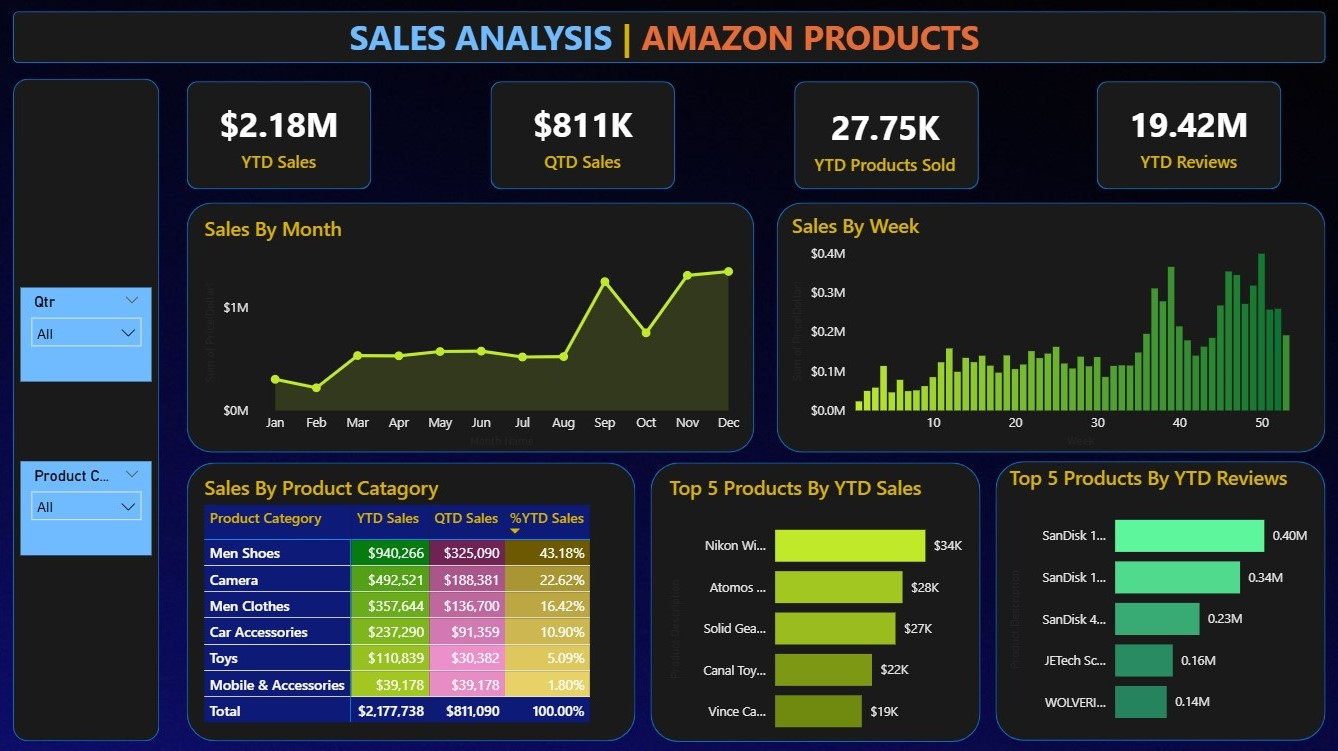

This screenshot's page, from the dashboard's own definition file:
{"tool":"powerbi","page":{"name":"Page 1","canvas":[1280,720],"ordinal":0},"visuals":[{"type":"shape","box":[13.7,11,1250.1,49.4],"z":0},{"type":"card","fields":{"Values":["Amazon_Data.YTD Sales"]},"box":[179.8,79.6,175.6,100.2],"z":0,"group":"g1"},{"type":"textbox","box":[329.3,8.2,618.9,56.3],"z":1000},{"type":"card","fields":{"Values":["Amazon_Data.QTD Sales"]},"box":[469.3,80.1,175.6,100.2],"z":1000,"group":"g1"},{"type":"shape","box":[14.3,75,139.3,631],"z":2000},{"type":"card","fields":{"Values":["Amazon_Data.YTD Products Sold"]},"box":[757.5,81.5,175.6,100.2],"z":2000,"group":"g1"},{"type":"shape","box":[179.8,76.8,175.6,102.9],"z":3000},{"type":"card","fields":{"Values":["Amazon_Data.YTD Reviews"]},"box":[1047,80.1,175.6,100.2],"z":3000,"group":"g1"},{"type":"shape","box":[468.8,76.8,175.6,102.9],"z":4000},{"type":"shape","box":[757.9,76.8,175.6,102.9],"z":5000},{"type":"shape","box":[1047,76.8,175.6,102.9],"z":6000},{"type":"group","id":"g1","title":"Group 1","box":[179.8,79.6,1042.9,101.5],"z":7000},{"type":"shape","box":[179.8,192.9,540.5,238.1],"z":8000},{"type":"areaChart","title":"Sales By Month","fields":{"Category":["Date Table.Month Name"],"Y":["Sum(Amazon_Data.Price(Dollar))"]},"box":[191.7,204.8,525,226.2],"z":9000},{"type":"shape","box":[741.7,192.9,522.6,238.1],"z":10000},{"type":"columnChart","title":"Sales By Week","fields":{"Category":["Date Table.Weel"],"Y":["Sum(Amazon_Data.Price(Dollar))"]},"box":[751.2,202.4,503.6,228.6],"z":11000},{"type":"shape","box":[179.8,440.5,427.4,265.5],"z":12000},{"type":"pivotTable","title":"Sales By Product Catagory","fields":{"Rows":["Amazon_Data.Product Category"],"Values":["Amazon_Data.YTD Sales1","Amazon_Data.QTD Sales","Amazon_Data.YTD Sales"]},"box":[191.7,451.2,415.5,245.2],"z":13000},{"type":"shape","box":[621.6,440.5,314.2,266.2],"z":14000},{"type":"shape","box":[949.6,439.1,314.2,266.2],"z":15000},{"type":"clusteredBarChart","title":"Top 5 Products By YTD Sales","fields":{"Category":["Amazon_Data.Product Description"],"Y":["Amazon_Data.YTD Sales"]},"box":[634,451.5,299.1,263.5],"z":16000},{"type":"clusteredBarChart","title":"Top 5 Products By YTD Reviews","fields":{"Category":["Amazon_Data.Product Description"],"Y":["Amazon_Data.YTD Reviews"]},"box":[958.3,441.7,298.8,264.3],"z":17000},{"type":"slicer","fields":{"Values":["Amazon_Data.Product Category"]},"box":[21.4,439.3,125,89.3],"z":18000},{"type":"slicer","fields":{"Values":["Date Table.Qtr"]},"box":[21.4,273.8,125,89.3],"z":19000}]}

Visuals, with their boxes in screenshot pixels (x1, y1, x2, y2), scaled from the page's 1280x720 canvas onto the 1338x751 screenshot:
shape: BBox(14, 11, 1321, 63)
card - Amazon_Data.YTD Sales: BBox(188, 83, 372, 188)
textbox: BBox(344, 9, 991, 67)
card - Amazon_Data.QTD Sales: BBox(491, 84, 674, 188)
shape: BBox(15, 78, 161, 736)
card - Amazon_Data.YTD Products Sold: BBox(792, 85, 975, 190)
shape: BBox(188, 80, 372, 187)
card - Amazon_Data.YTD Reviews: BBox(1094, 84, 1278, 188)
shape: BBox(490, 80, 674, 187)
shape: BBox(792, 80, 976, 187)
shape: BBox(1094, 80, 1278, 187)
"Group 1" group: BBox(188, 83, 1278, 189)
shape: BBox(188, 201, 753, 450)
"Sales By Month" areaChart: BBox(200, 214, 749, 450)
shape: BBox(775, 201, 1322, 450)
"Sales By Week" columnChart: BBox(785, 211, 1312, 450)
shape: BBox(188, 459, 635, 736)
"Sales By Product Catagory" pivotTable: BBox(200, 471, 635, 726)
shape: BBox(650, 459, 978, 737)
shape: BBox(993, 458, 1321, 736)
"Top 5 Products By YTD Sales" clusteredBarChart: BBox(663, 471, 975, 746)
"Top 5 Products By YTD Reviews" clusteredBarChart: BBox(1002, 461, 1314, 736)
slicer - Amazon_Data.Product Category: BBox(22, 458, 153, 551)
slicer - Date Table.Qtr: BBox(22, 286, 153, 379)
